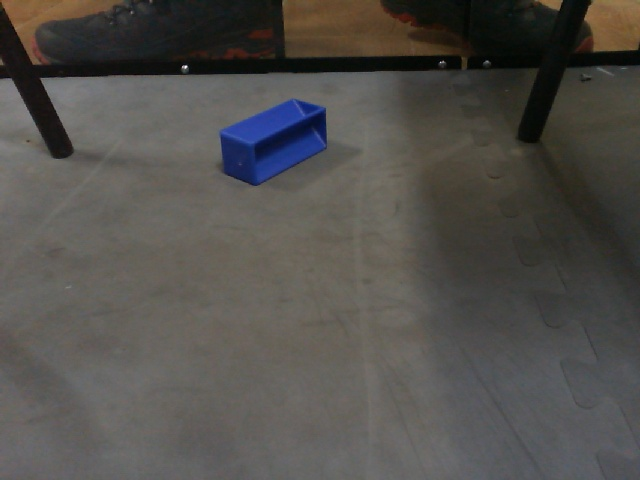BlueSample: (216, 97, 331, 190)
